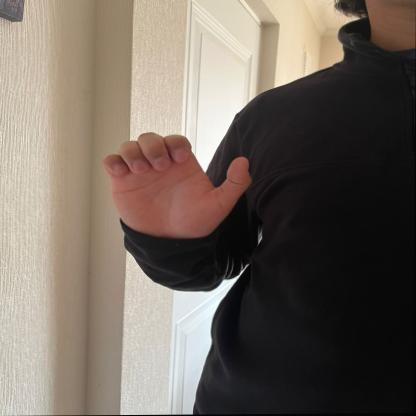E: (101, 126, 259, 241)
